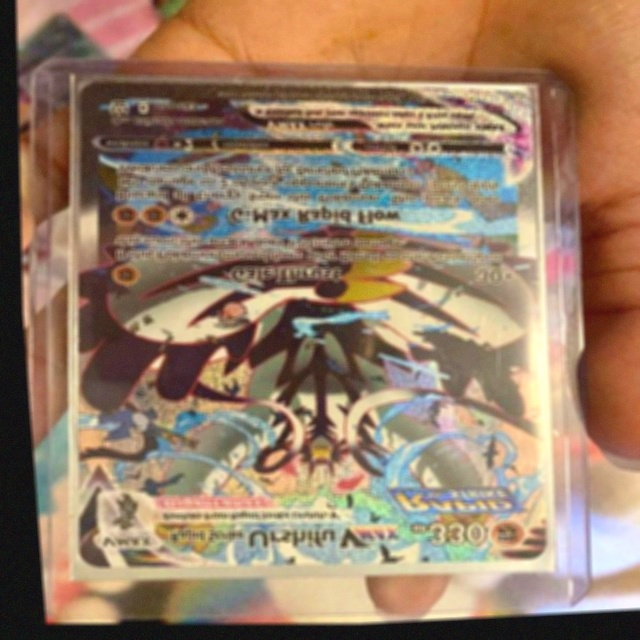card: (68, 81, 540, 570)
